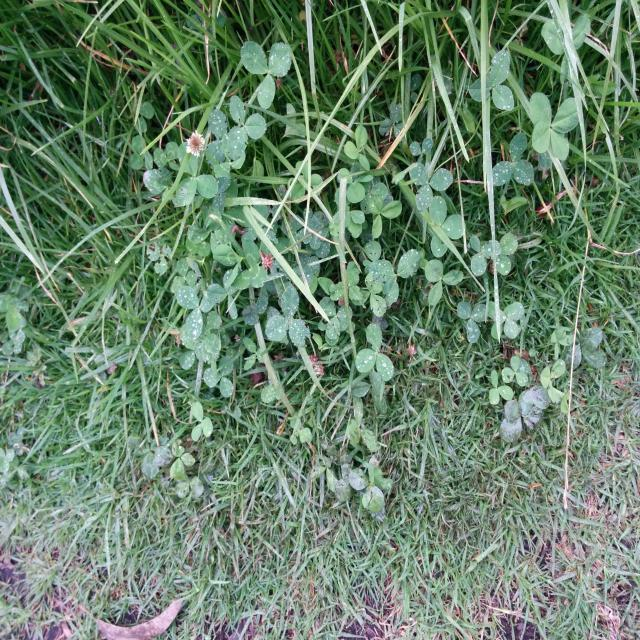Four Leaf Clover: (529, 92, 579, 161)
